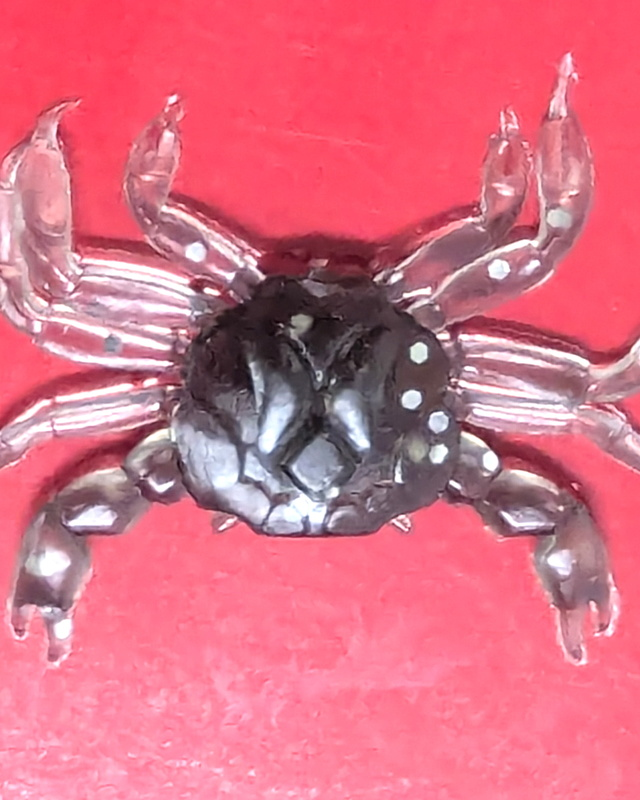crab1: (1, 50, 640, 669)
